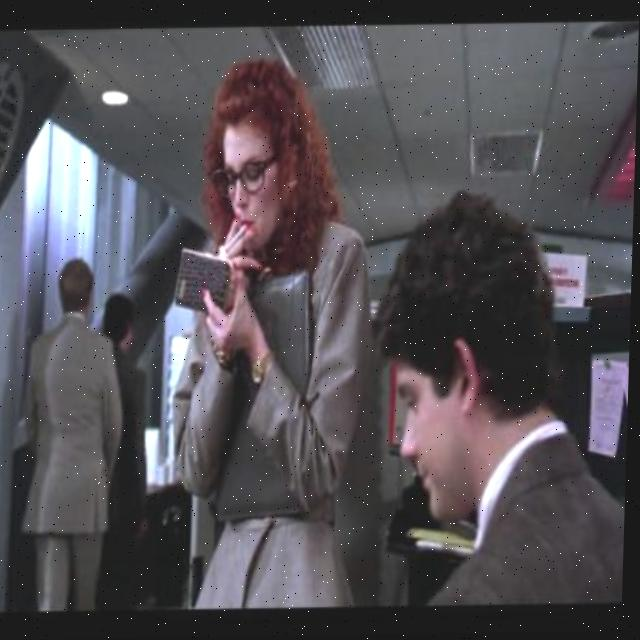cigarette: (226, 223, 251, 255)
